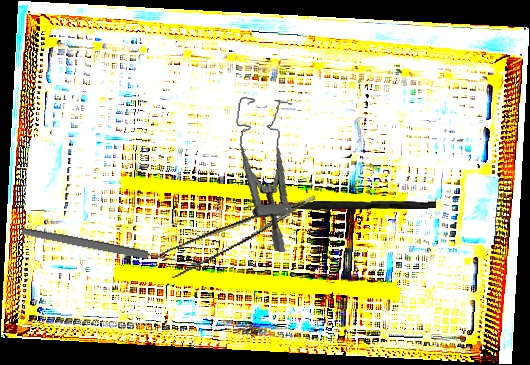Hook Surgical: (247, 199, 437, 212)
Speculum: (220, 95, 306, 253)
Surgical Spoon: (20, 225, 202, 272)
Tissue Forceps: (156, 194, 325, 281)
